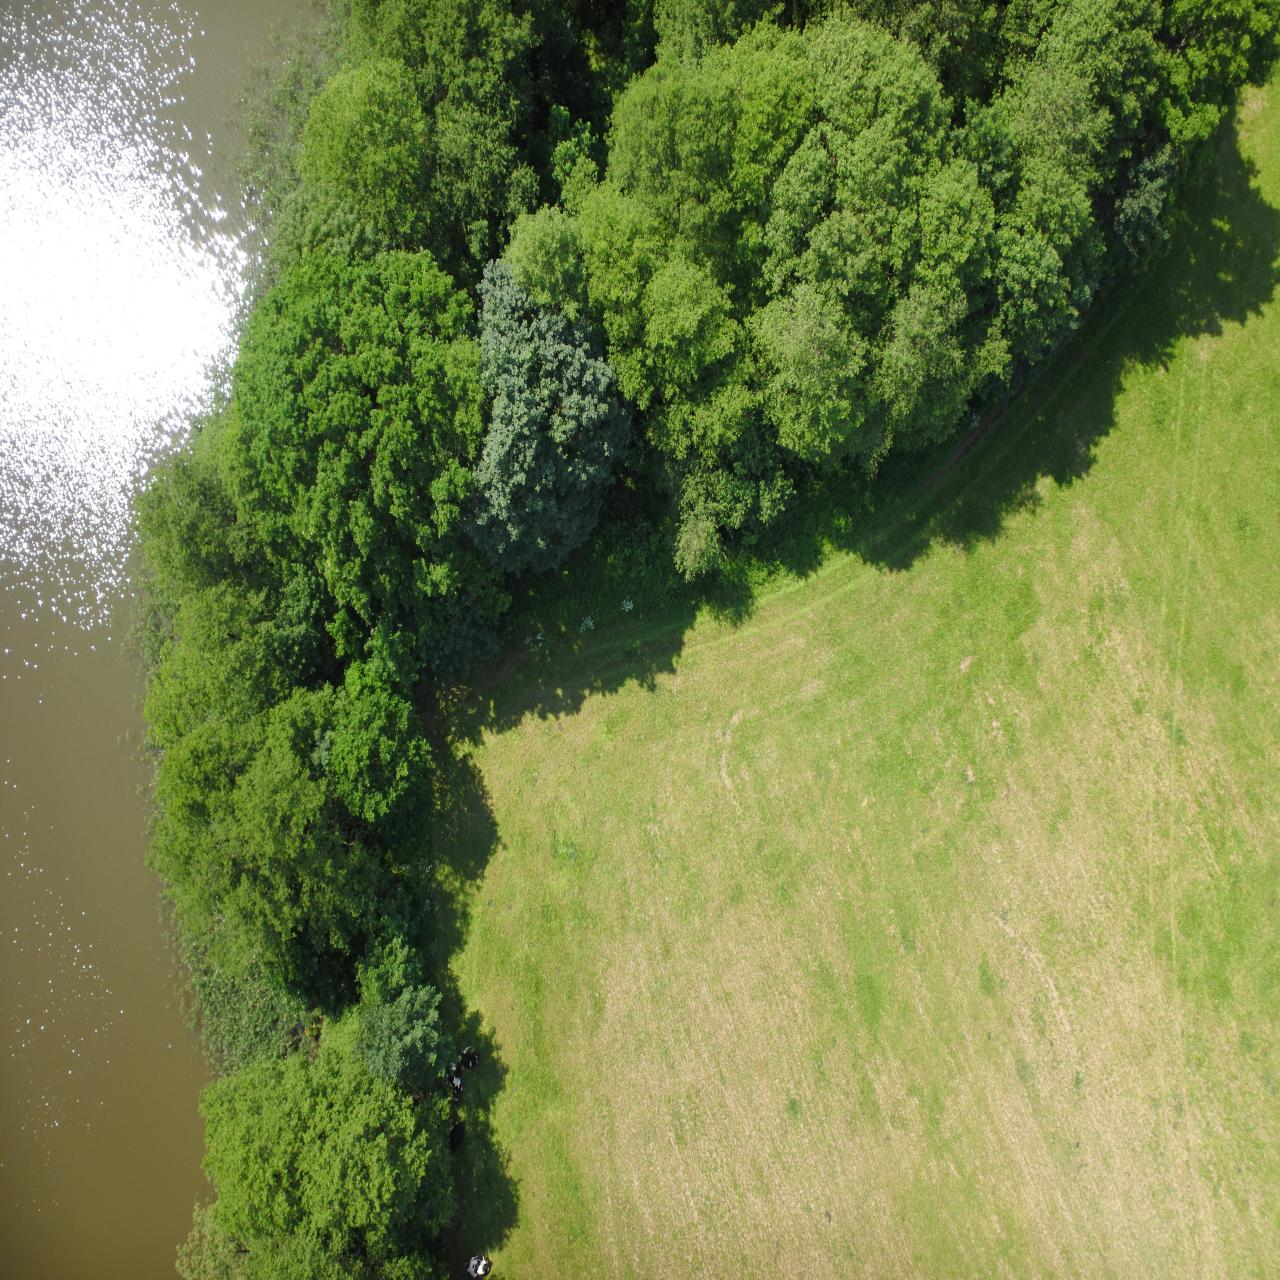cow: (790, 2, 815, 27), (799, 211, 819, 234)
